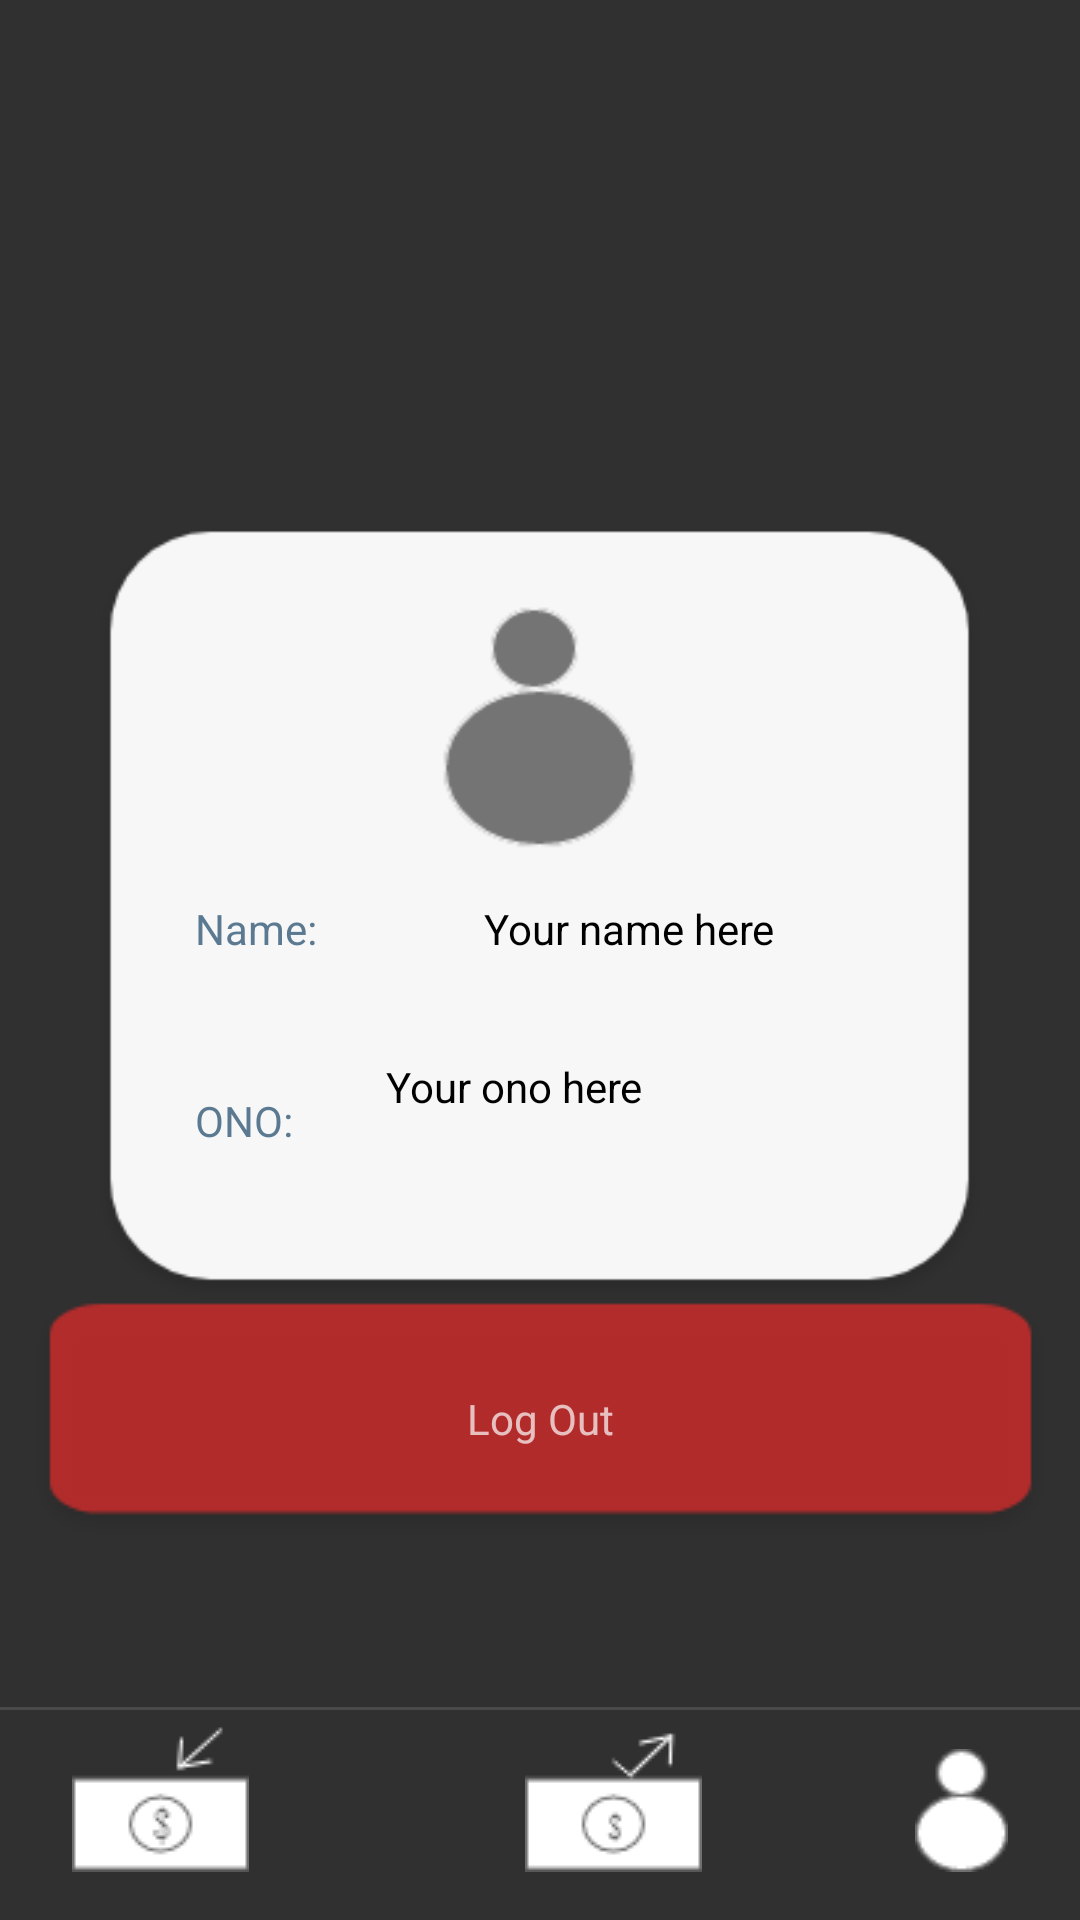

Icons on this 1080*1920 Android screen, each with its box as (x1, y1, x2, y2):
debt: (525, 1733, 702, 1872)
loan: (72, 1727, 249, 1872)
profile: (915, 1749, 1008, 1872)
